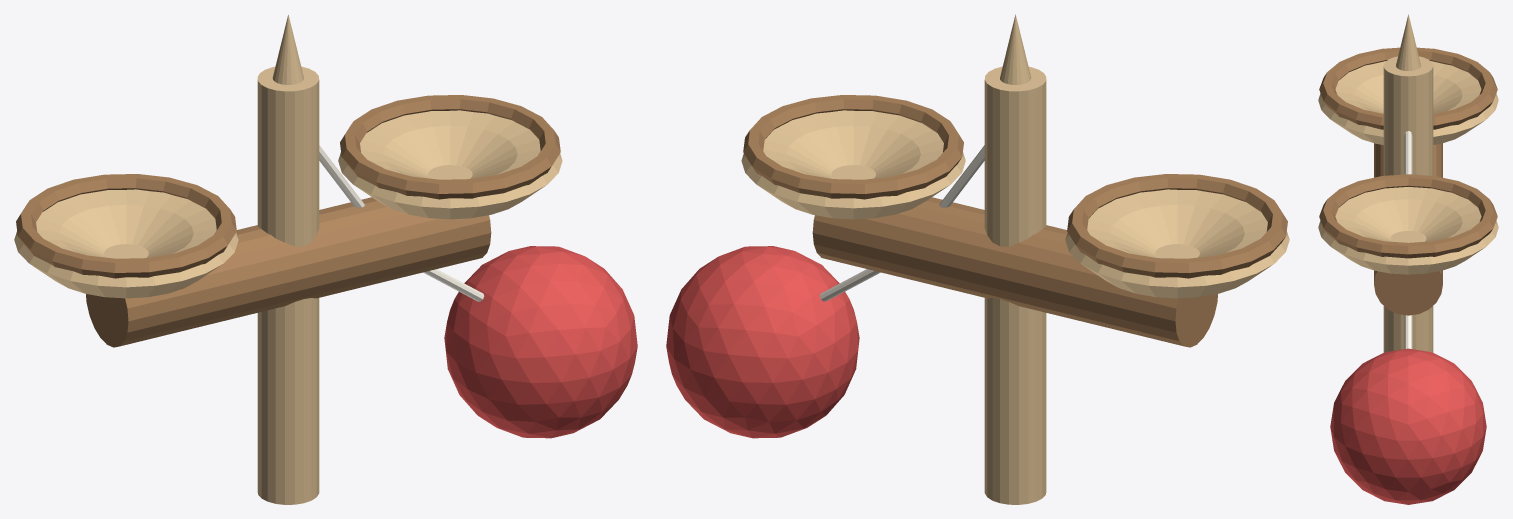
File: folk_kendama.glb
3 views of the same model, side by side, from view 1: azimuth 30°, elevation 25°; view 2: azimuth 150°, elevation 25°; view 3: azimuth 270°, elevation 25° (orthographic). The views are drawn at different scales.
Parts seen in each view (by area): view 1: Red lacquer kendama ball, Kendama horizontal crossbeam, Lathed kendama pine grip, Separate concave catch cup, Separate concave catch cup.001, Rim of wooden kendama cup, Rim of wooden kendama cup.001, Sharpened spike, Actual kendama tether_00; view 2: Red lacquer kendama ball, Kendama horizontal crossbeam, Lathed kendama pine grip, Separate concave catch cup, Separate concave catch cup.001, Rim of wooden kendama cup, Rim of wooden kendama cup.001, Sharpened spike, Actual kendama tether_00; view 3: Red lacquer kendama ball, Separate concave catch cup.001, Lathed kendama pine grip, Rim of wooden kendama cup.001, Separate concave catch cup, Rim of wooden kendama cup, Kendama horizontal crossbeam, Sharpened spike, Actual kendama tether_00, Actual kendama tether_01.
Part boxes in pixels (box(x1,y1,x2,y2)): Red lacquer kendama ball: box(444, 246, 637, 438); Kendama horizontal crossbeam: box(86, 197, 491, 347); Lathed kendama pine grip: box(257, 66, 319, 504); Separate concave catch cup: box(14, 189, 238, 298); Separate concave catch cup.001: box(338, 110, 562, 219); Rim of wooden kendama cup: box(16, 174, 236, 278); Rim of wooden kendama cup.001: box(340, 95, 560, 199); Sharpened spike: box(272, 14, 303, 84); Actual kendama tether_00: box(319, 145, 364, 207); Red lacquer kendama ball: box(666, 246, 859, 438); Kendama horizontal crossbeam: box(812, 197, 1217, 347); Lathed kendama pine grip: box(984, 66, 1046, 504); Separate concave catch cup: box(1065, 189, 1289, 298); Separate concave catch cup.001: box(741, 110, 965, 219); Rim of wooden kendama cup: box(1067, 174, 1287, 278); Rim of wooden kendama cup.001: box(743, 95, 963, 199); Sharpened spike: box(1000, 14, 1031, 84); Actual kendama tether_00: box(939, 145, 984, 207); Red lacquer kendama ball: box(1330, 348, 1486, 504); Separate concave catch cup.001: box(1318, 187, 1498, 274); Lathed kendama pine grip: box(1383, 56, 1433, 352); Rim of wooden kendama cup.001: box(1319, 174, 1497, 258); Separate concave catch cup: box(1318, 61, 1498, 144); Rim of wooden kendama cup: box(1319, 47, 1497, 129); Kendama horizontal crossbeam: box(1374, 143, 1442, 315); Sharpened spike: box(1396, 14, 1420, 70); Actual kendama tether_00: box(1404, 131, 1412, 174); Actual kendama tether_01: box(1404, 315, 1412, 348).
Size of the model in its own units: 1.95 by 1.49 by 0.6359.
